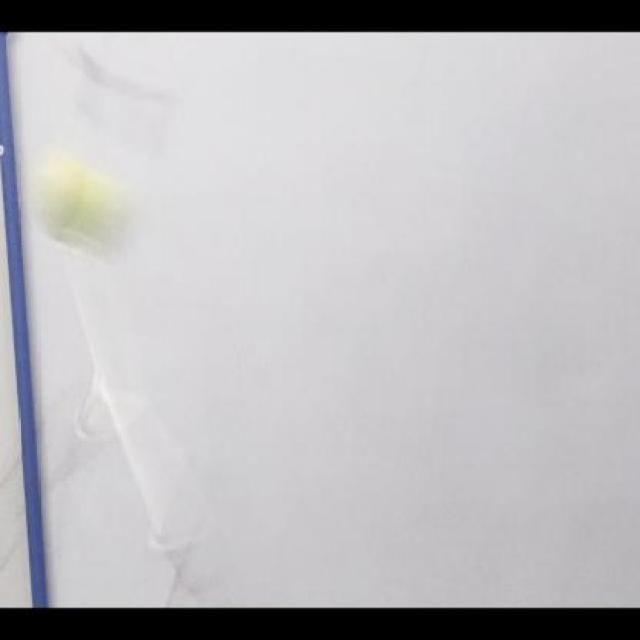baseball: (29, 146, 133, 265)
